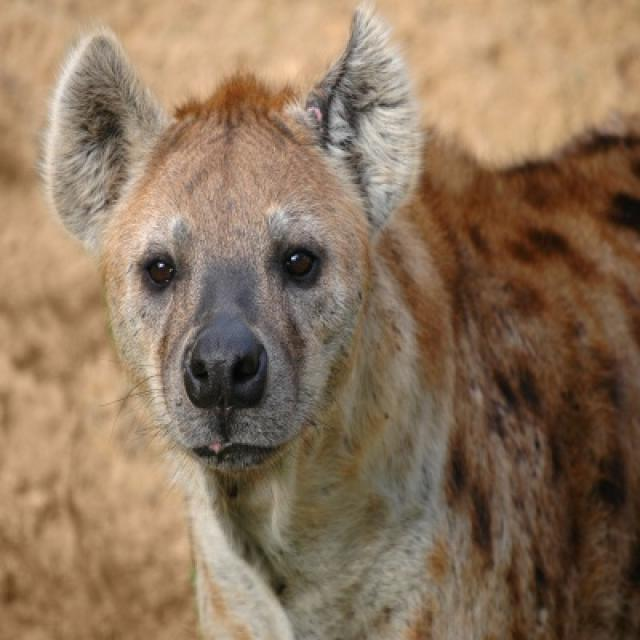hyena: (35, 11, 638, 638)
